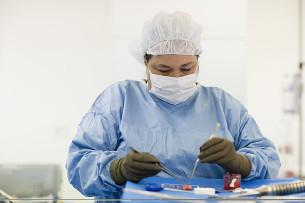OK: (146, 55, 196, 105)
